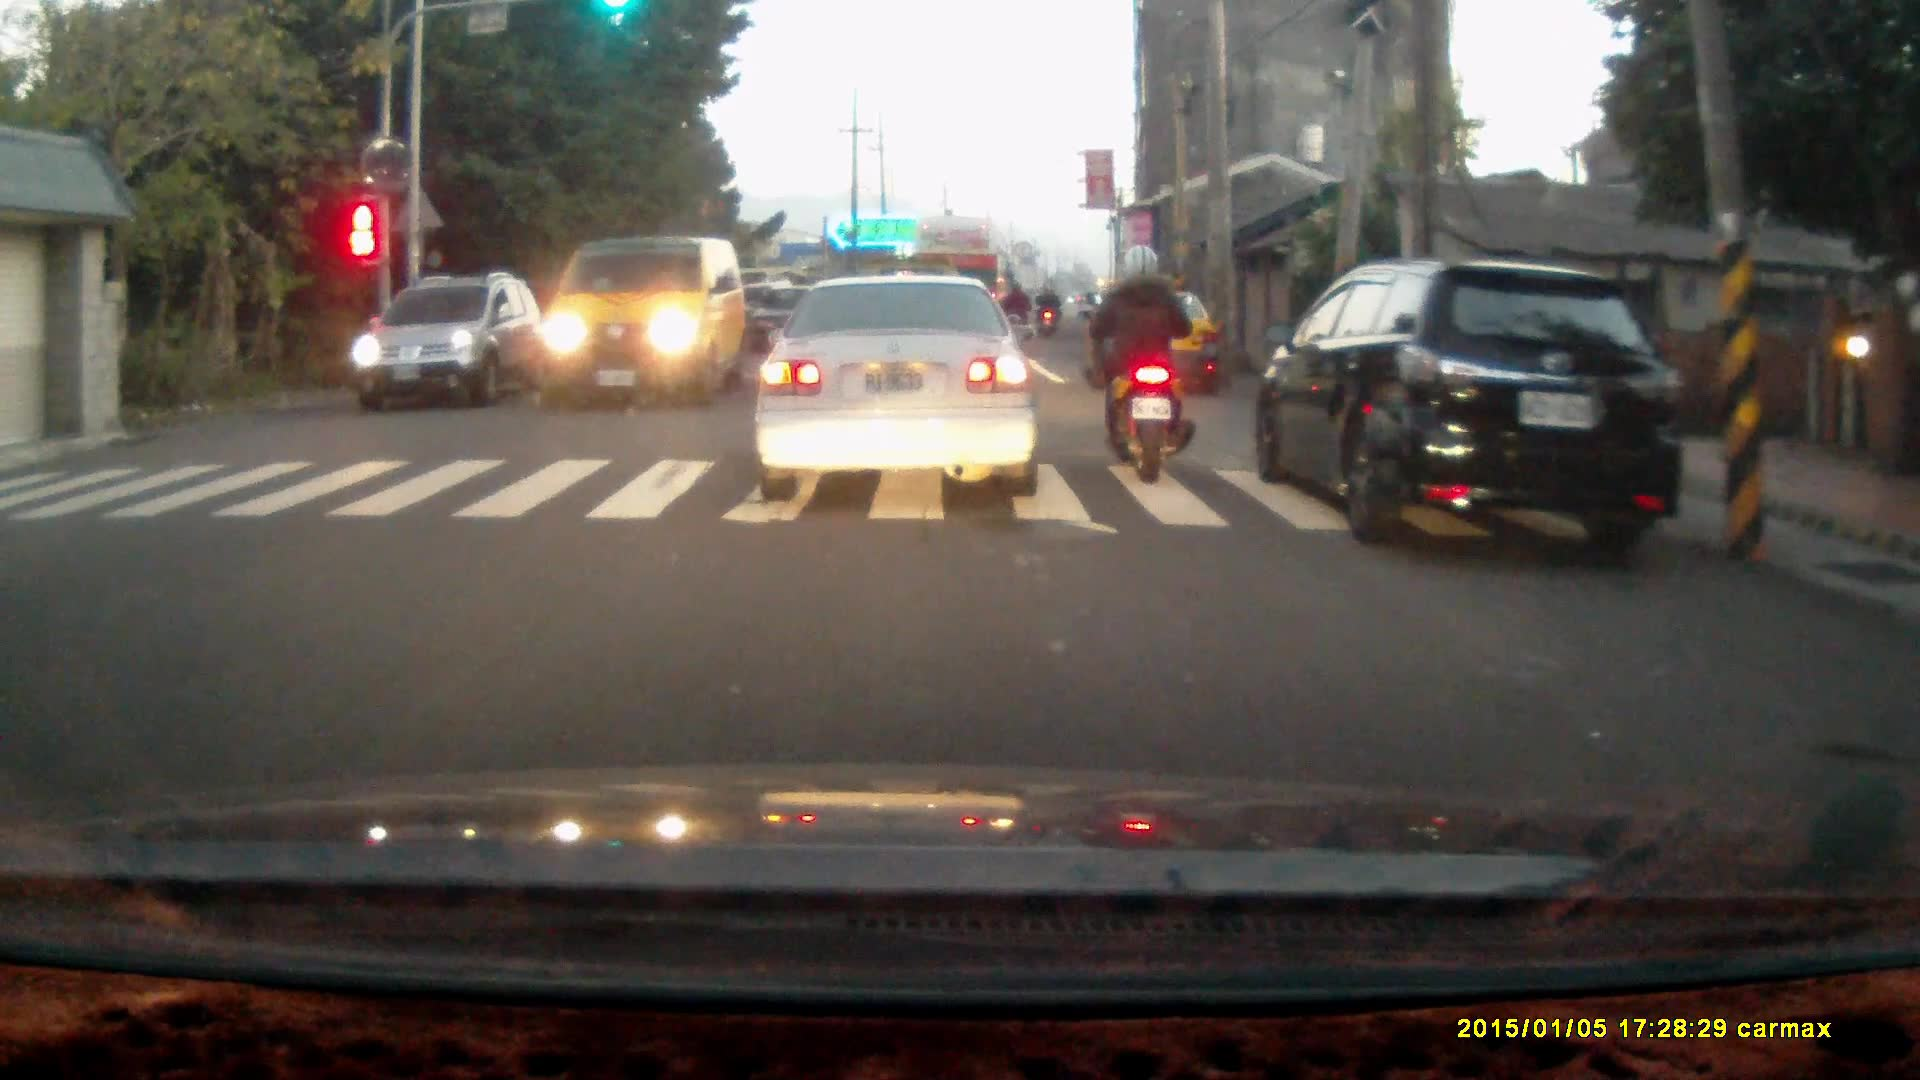rider: (1085, 242, 1193, 484)
vehicle: (1262, 262, 1689, 551), (757, 270, 1046, 500), (531, 238, 744, 418), (350, 273, 539, 404), (1087, 290, 1223, 409), (910, 219, 1016, 352)
